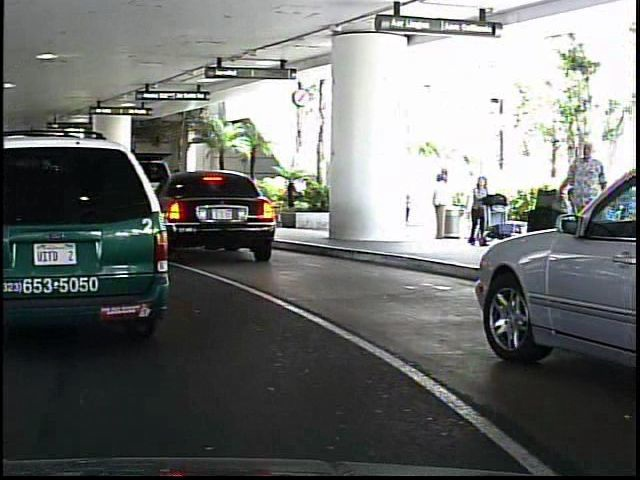person: (556, 132, 609, 286), (461, 172, 491, 251)
